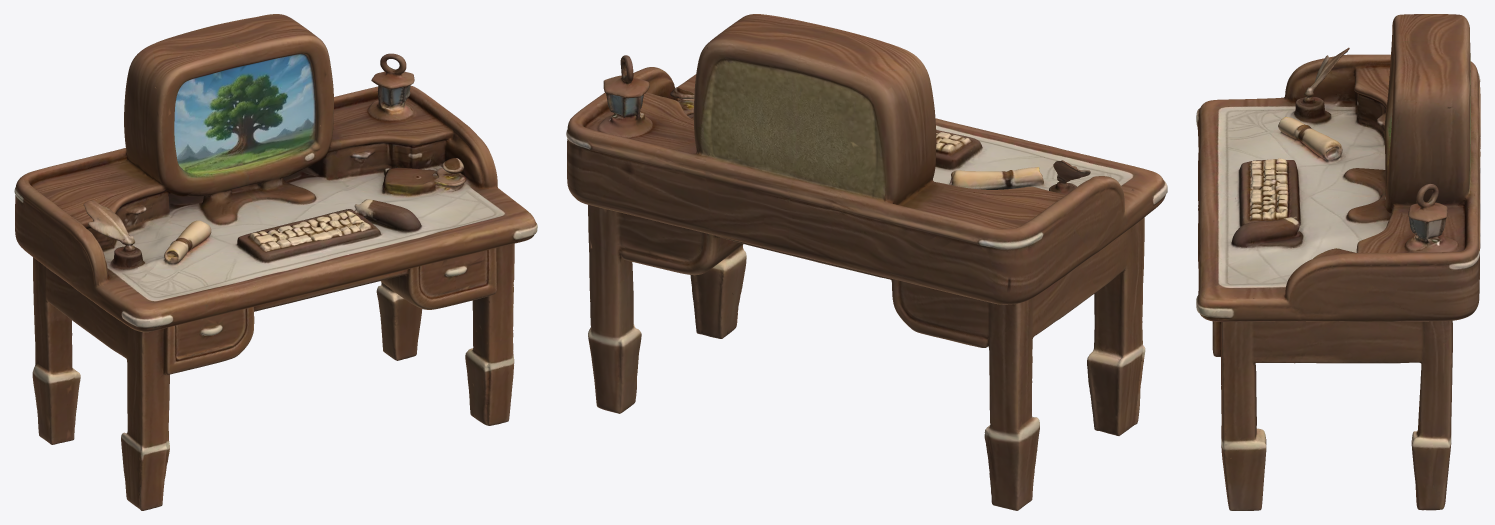
The model's file is computer-desk.glb.
3 renders of one model, left to right at view 1: azimuth 30°, elevation 25°; view 2: azimuth 150°, elevation 25°; view 3: azimuth 270°, elevation 25°, orthographic. The views are drawn at different scales.
Bounding box in the file's own units: 2 × 1.71 × 1.17.
1 material, 1 textured.
